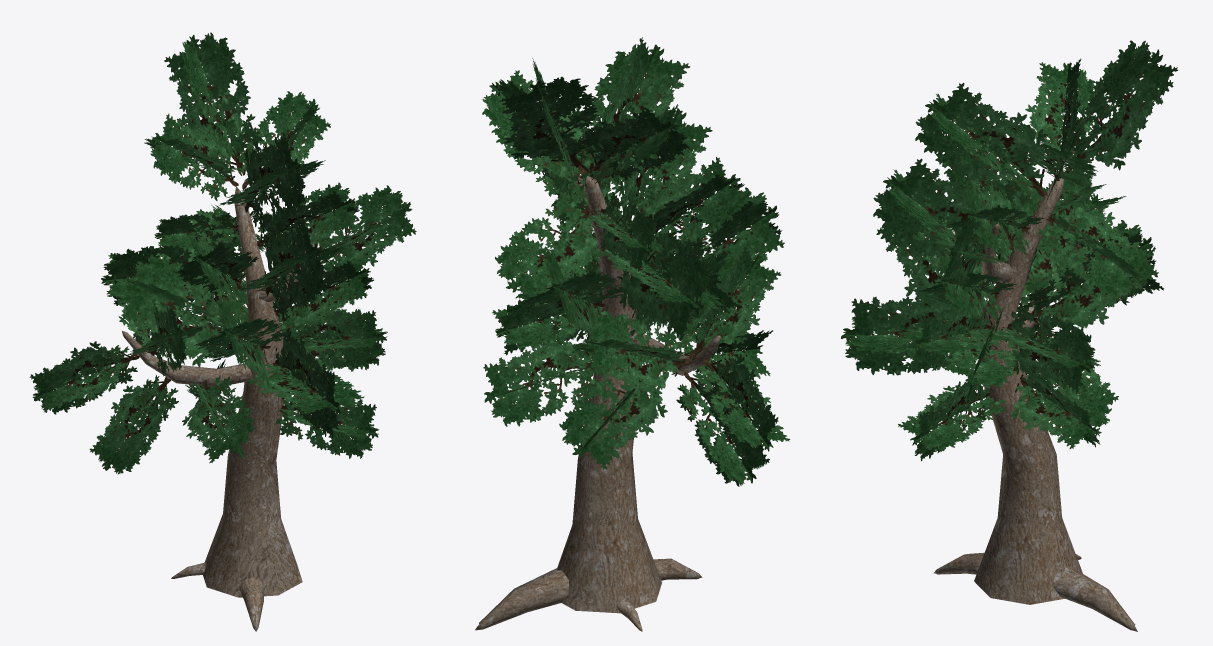
File: TerrainTree4.fbx
The picture shows the model from 3 angles, left to right: view 1: azimuth 30°, elevation 25°; view 2: azimuth 150°, elevation 25°; view 3: azimuth 270°, elevation 25°; orthographic projection. The views are drawn at different scales.
Parts seen in each view (by area): view 1: Tree2; view 2: Tree2; view 3: Tree2.
Boxes of the visible parts, left/top/right/bottom form: Tree2: left=29, top=32, right=416, bottom=631; Tree2: left=475, top=37, right=790, bottom=631; Tree2: left=841, top=40, right=1177, bottom=631.
Size of the model in its own units: 300 by 453 by 259.
